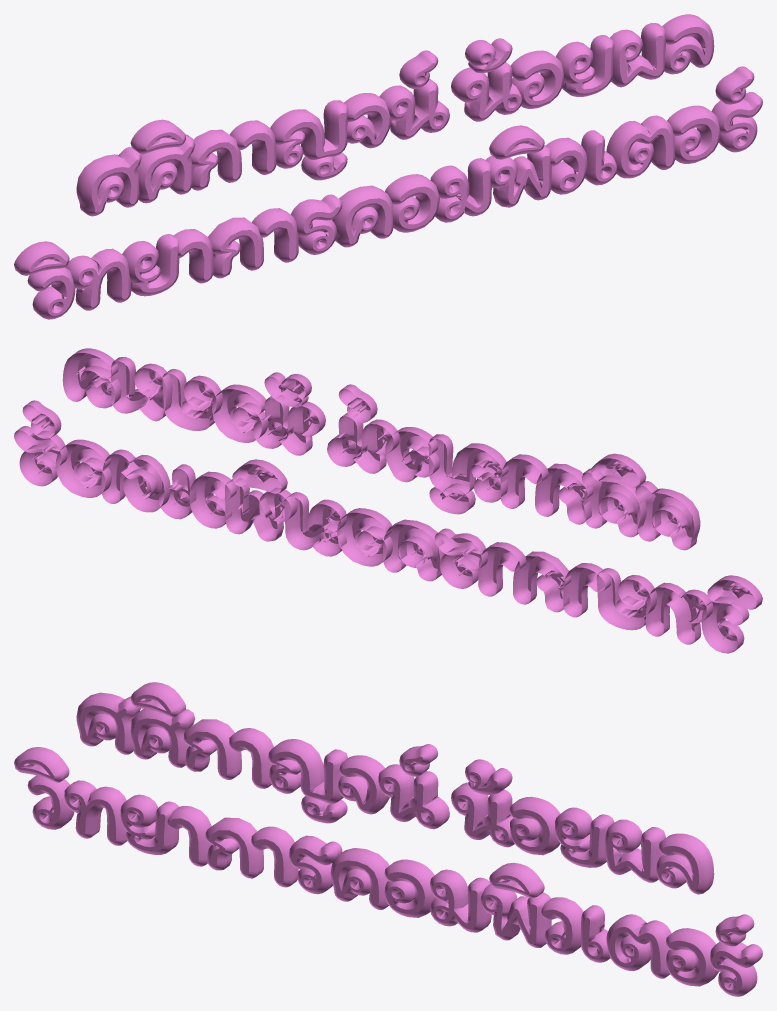
The picture shows the model from 3 angles, top to bottom: view 1: azimuth 30°, elevation 25°; view 2: azimuth 150°, elevation 25°; view 3: azimuth 330°, elevation 25°; orthographic projection.
Parts seen in each view (by area): view 1: Text; view 2: Text; view 3: Text.
Boxes of the visible parts, x1,y1,x2,y2 form: Text: (14, 14, 762, 319); Text: (14, 348, 762, 653); Text: (14, 682, 762, 996).
Size of the model in its own units: 3.33 by 0.7404 by 0.072.
